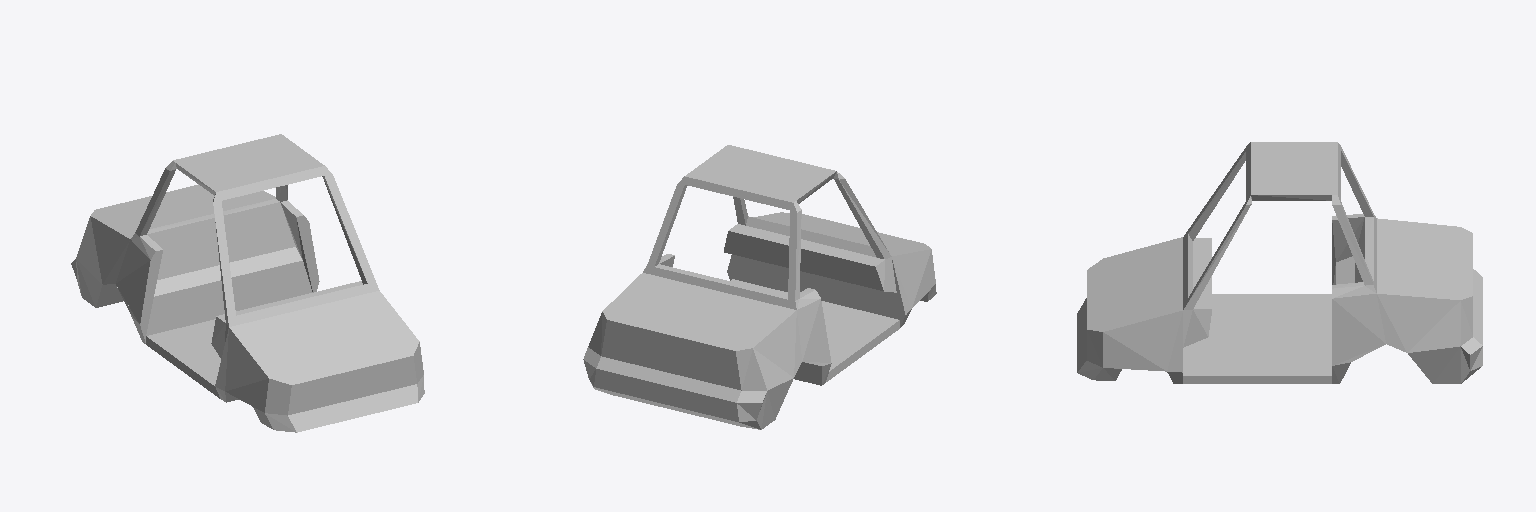
Rendered from car.obj.
The picture shows the model from 3 angles: view 1: azimuth 30°, elevation 25°; view 2: azimuth 150°, elevation 25°; view 3: azimuth 270°, elevation 25°; orthographic projection.
Parts seen in each view (by area): view 1: Car; view 2: Car; view 3: Car.
Part boxes in pixels (bbox=[...]): Car: bbox=[71, 134, 424, 432]; Car: bbox=[583, 145, 936, 429]; Car: bbox=[1077, 142, 1482, 383].
Bounding box in the file's own units: 2.15 × 2 × 4.2.